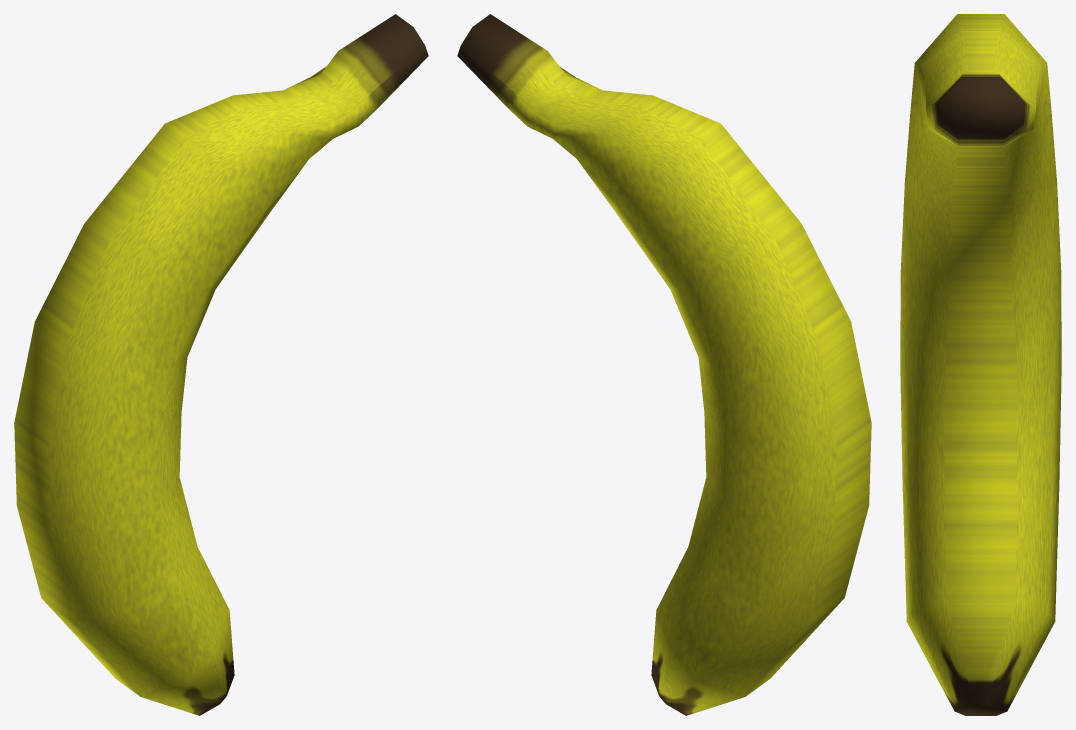
The model's file is Platano-1_1.obj.
3 renders of one model, left to right at view 1: azimuth 30°, elevation 25°; view 2: azimuth 150°, elevation 25°; view 3: azimuth 270°, elevation 25°, orthographic. The views are drawn at different scales.
Parts seen in each view (by area): view 1: Platano-1_1_Cube.001; view 2: Platano-1_1_Cube.001; view 3: Platano-1_1_Cube.001.
Part boxes in pixels (x1,y1,x2,y2): Platano-1_1_Cube.001: (14, 14, 428, 715); Platano-1_1_Cube.001: (457, 14, 871, 715); Platano-1_1_Cube.001: (900, 14, 1061, 715).
Bounding box in the file's own units: 2.87 × 4.57 × 0.885.
1 material, 1 textured.
